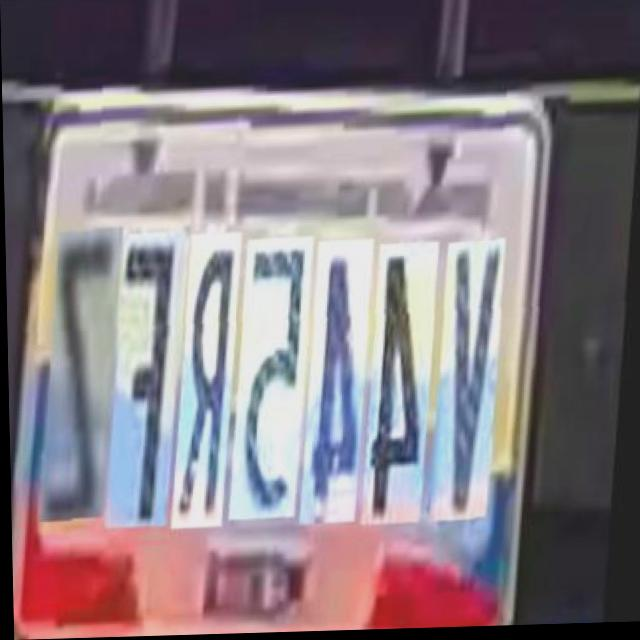4: (363, 242, 449, 525), (302, 240, 383, 524)
5: (232, 236, 323, 519)
f: (106, 229, 196, 527)
r: (173, 232, 251, 528)
v: (431, 241, 514, 523)
z: (41, 225, 133, 518)
